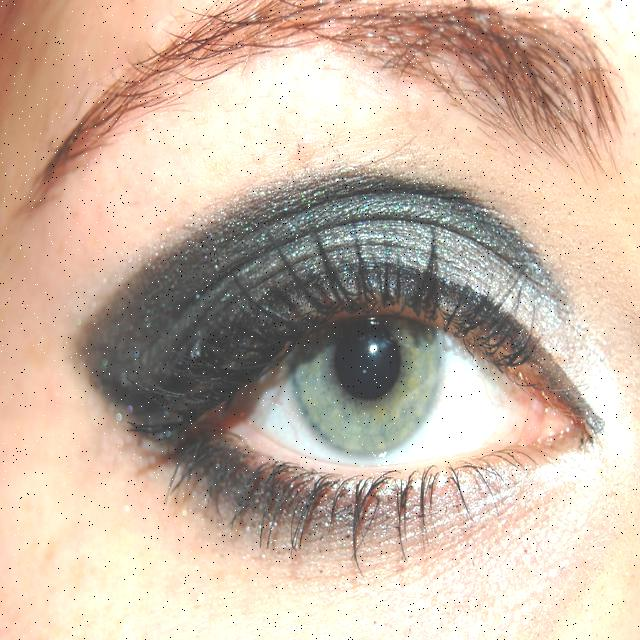Normal: (99, 259, 631, 551)
